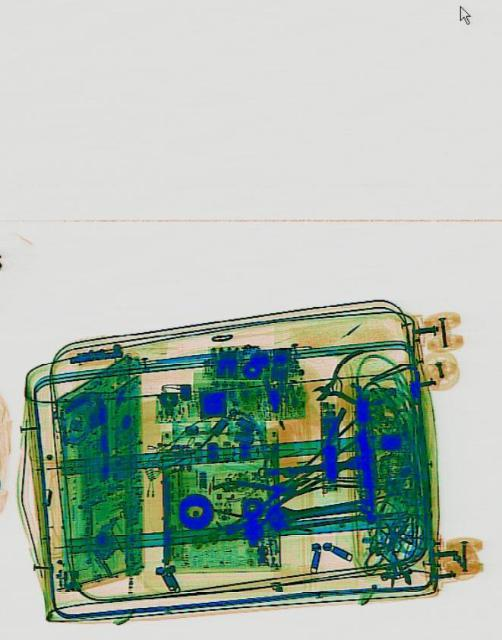Pliers: (209, 461, 309, 534), (303, 343, 382, 423)
Wrench: (266, 491, 366, 534), (257, 452, 359, 478)
